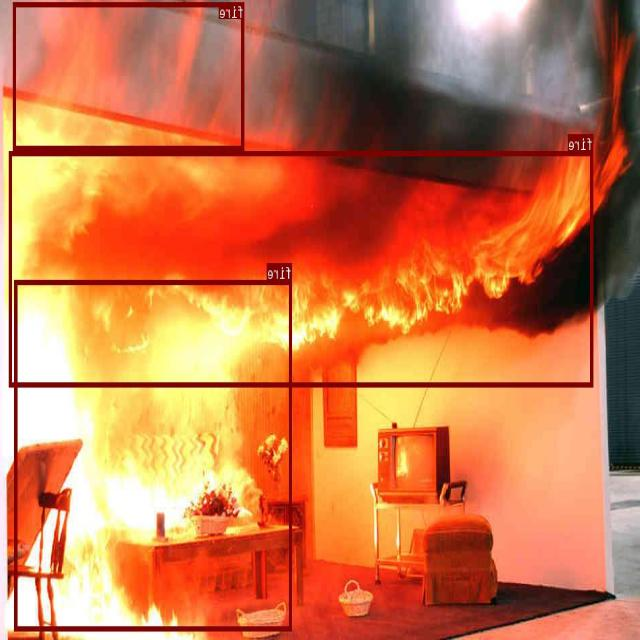fire: (9, 151, 594, 386), (15, 279, 293, 630), (14, 1, 245, 150)
